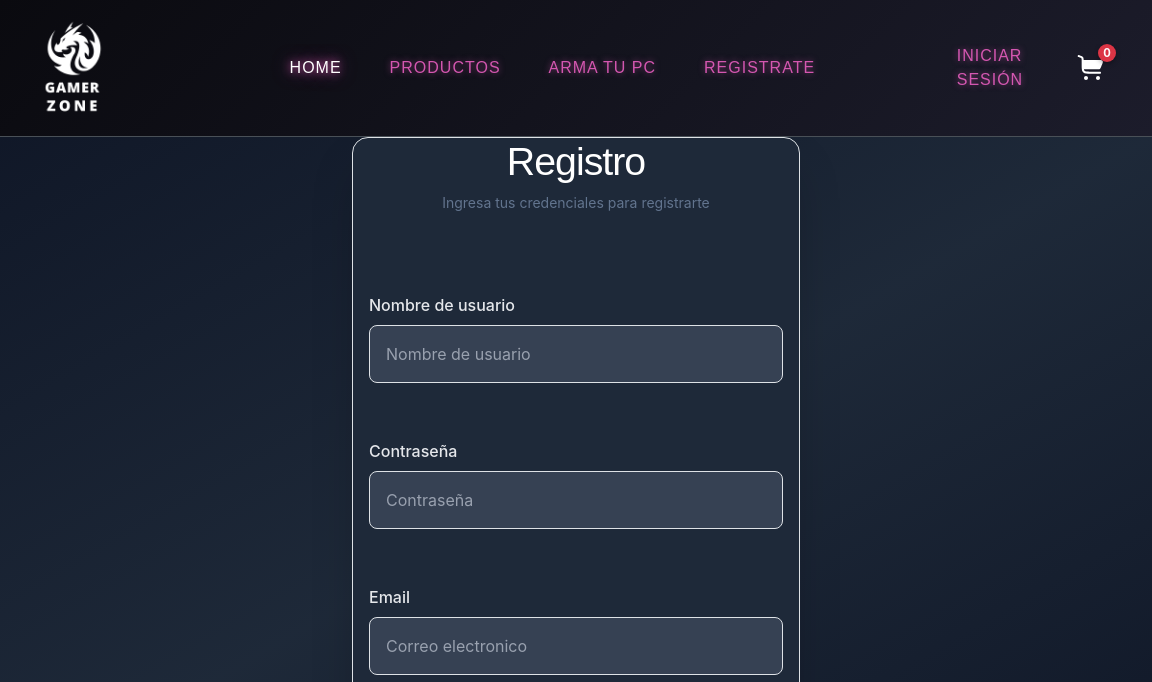
Test case: Registro Component › valida que el nombre de usuario tenga longitud minima
# Escribir valor corto
Type "ab" into the field with placeholder "Nombre de usuario" at (576, 354), box [369,325,783,383]
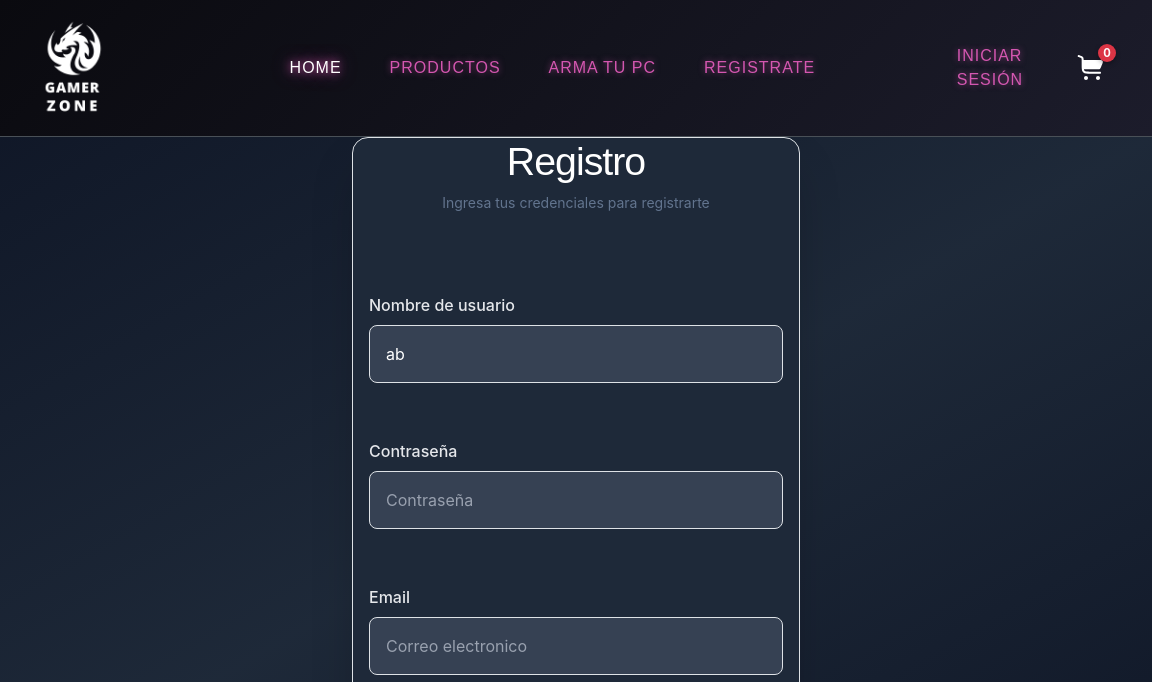
# Hacer blur para forzar validación
Leave the field with placeholder "Nombre de usuario", box [369,325,783,383]
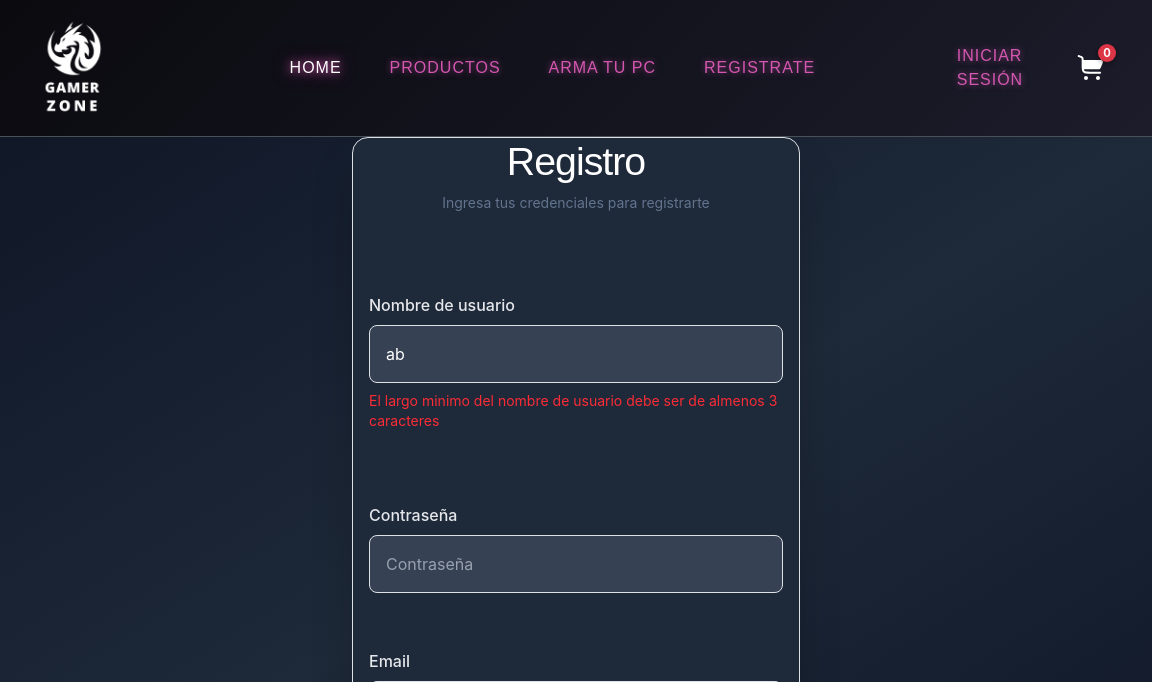
Result: the text "El largo minimo del nombre de usuario debe ser de almenos 3 caracteres" is shown at [369,391,783,431]
